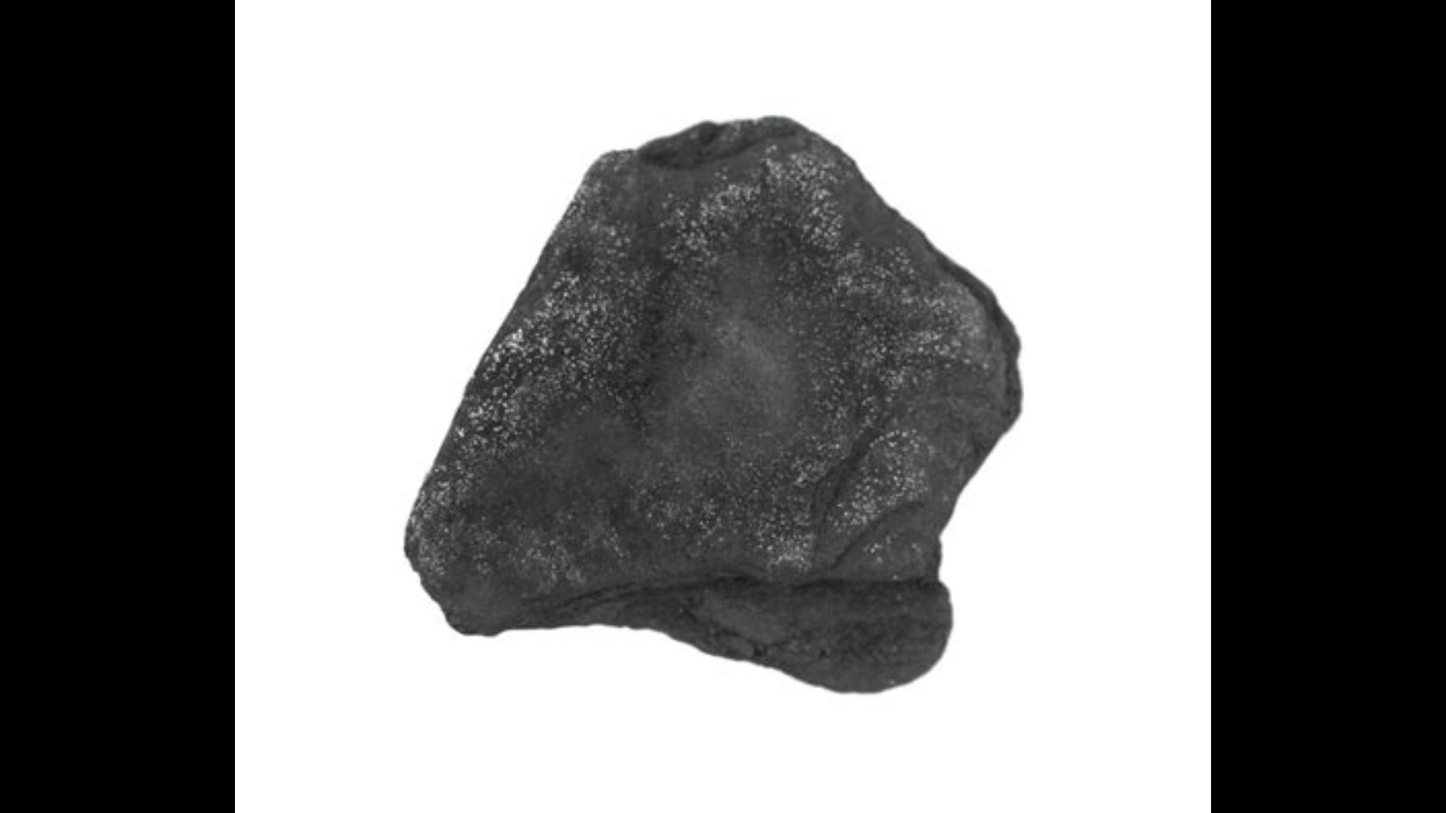rock: (406, 119, 1017, 687)
